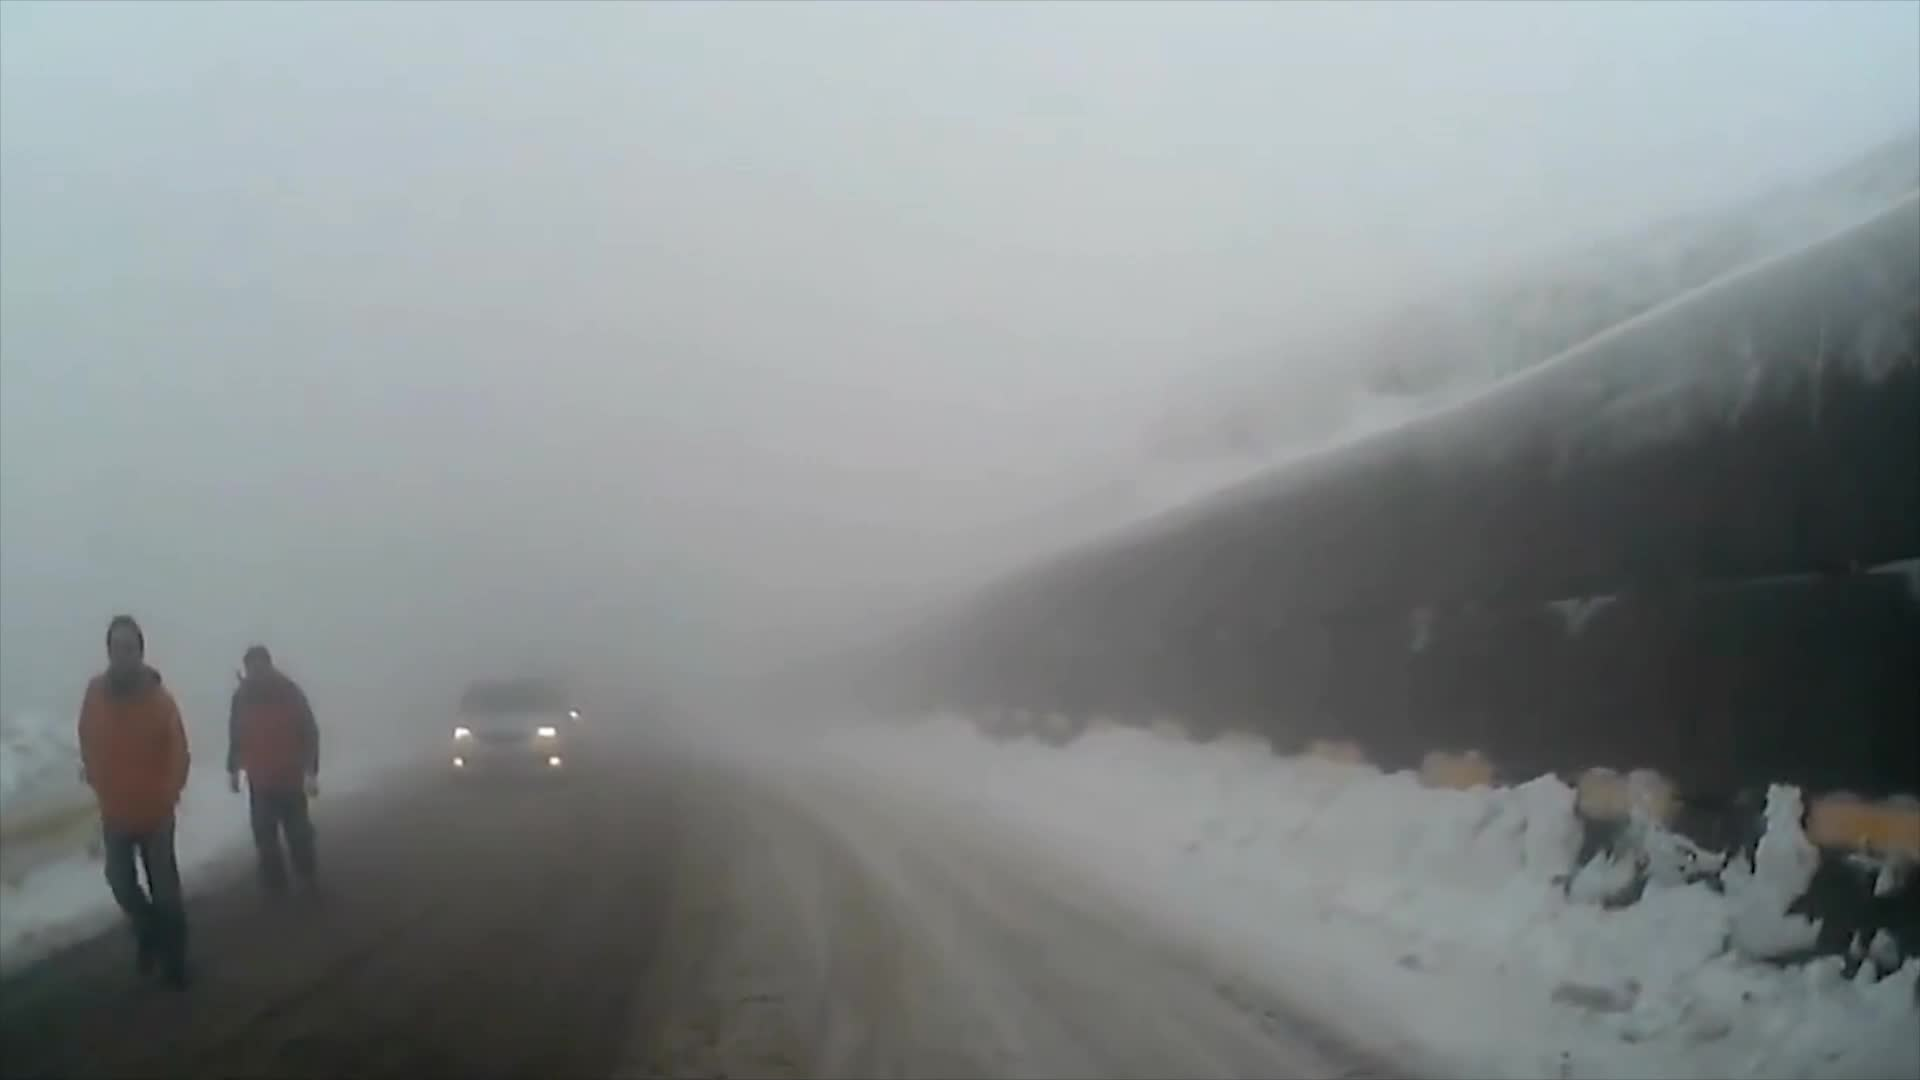pedestrian: (74, 615, 193, 998), (221, 642, 325, 897)
vehicle: (447, 672, 572, 789)
